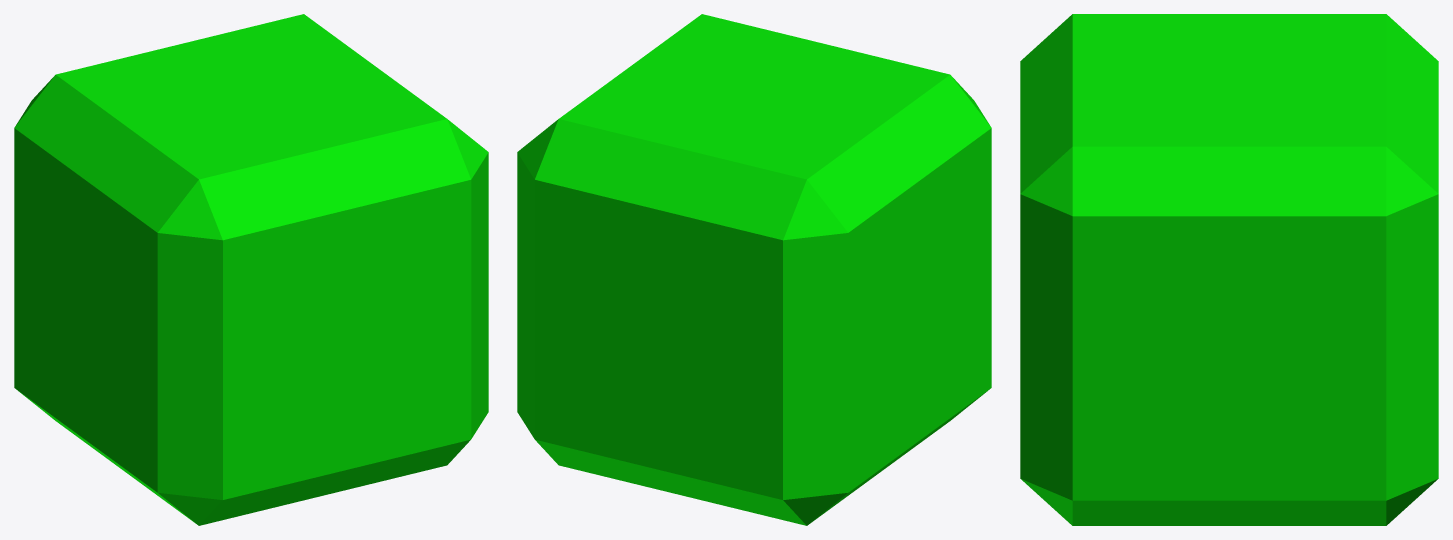
Rendered from GreenCube.fbx.
3 renders of one model, left to right at view 1: azimuth 30°, elevation 25°; view 2: azimuth 150°, elevation 25°; view 3: azimuth 270°, elevation 25°, orthographic. The views are drawn at different scales.
Parts seen in each view (by area): view 1: pCube19; view 2: pCube19; view 3: pCube19.
Boxes of the visible parts, box(x1,y1,x2,y2) form: pCube19: box(14, 14, 488, 525); pCube19: box(517, 14, 991, 525); pCube19: box(1020, 14, 1438, 525).
Size of the model in its own units: 1 by 1 by 1.
